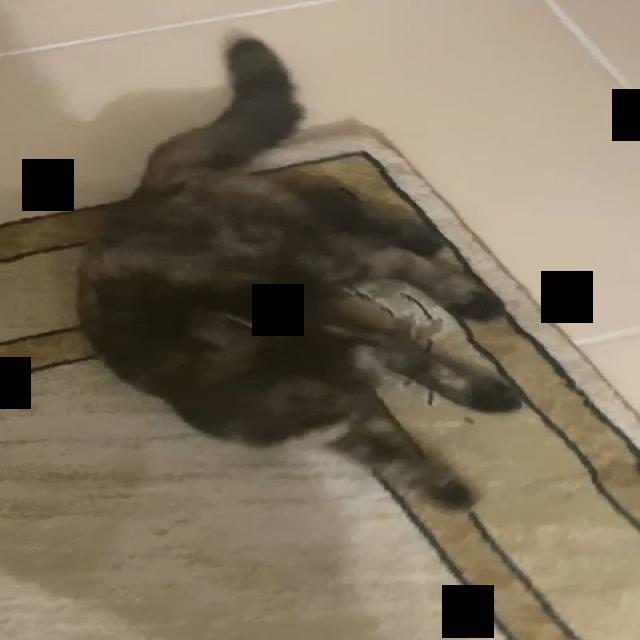authorized: (75, 29, 522, 512)
